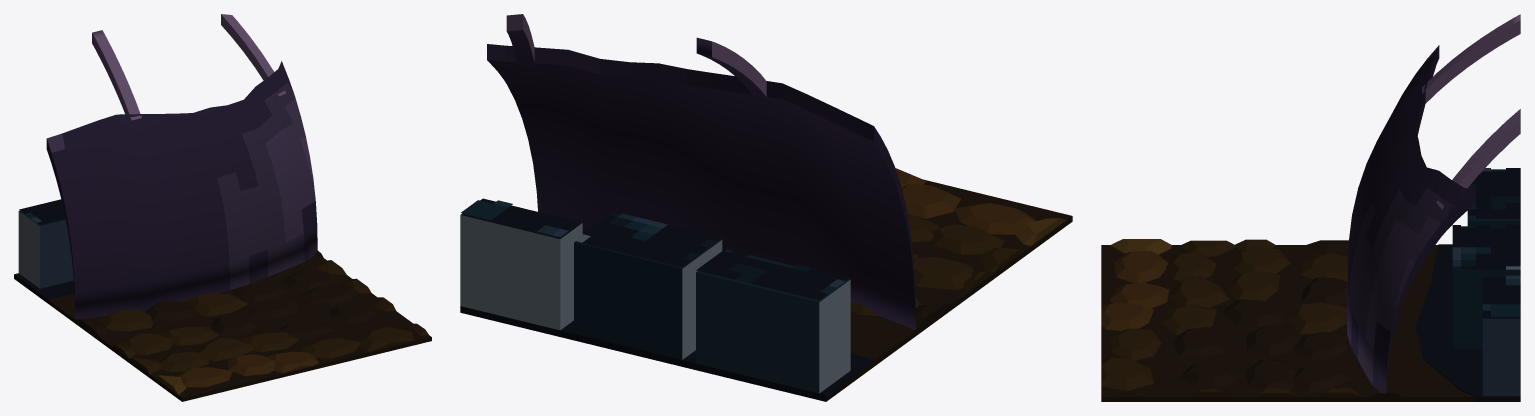
Rendered from newshr-83.glb.
The picture shows the model from 3 angles, left to right: view 1: azimuth 30°, elevation 25°; view 2: azimuth 150°, elevation 25°; view 3: azimuth 270°, elevation 25°; orthographic projection. The views are drawn at different scales.
Visible parts, largest first — view 1: newshr-83; view 2: newshr-83; view 3: newshr-83.
Part boxes in pixels (x1,y1,x2,y2): newshr-83: (14, 14, 431, 401); newshr-83: (460, 14, 1072, 401); newshr-83: (1101, 14, 1520, 401).
Size of the model in its own units: 2 by 1.74 by 2.33.
